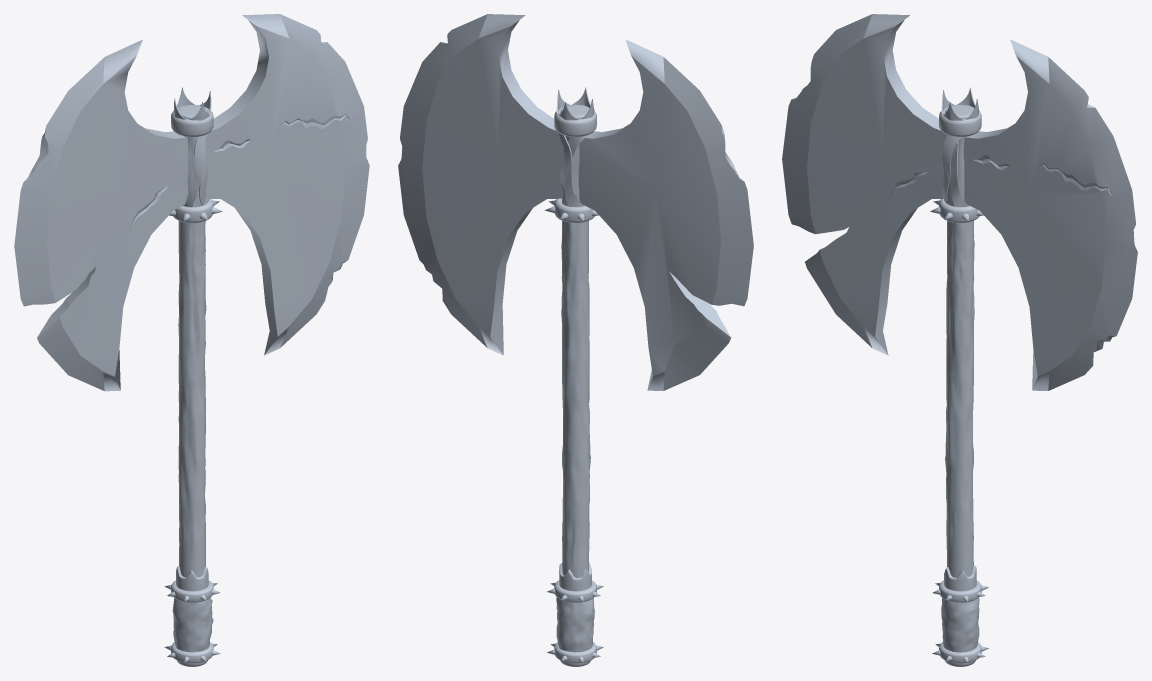
File: doubleAxe.glb
The picture shows the model from 3 angles, left to right: view 1: azimuth 30°, elevation 25°; view 2: azimuth 150°, elevation 25°; view 3: azimuth 330°, elevation 25°; orthographic projection.
Visible parts, largest first — view 1: DoubleAxe2; view 2: DoubleAxe2; view 3: DoubleAxe2.
Part boxes in pixels (<box>): DoubleAxe2: <box>14,14,369,666</box>; DoubleAxe2: <box>398,14,753,666</box>; DoubleAxe2: <box>782,14,1137,666</box>.
Bounding box in the file's own units: 3.89 × 6.64 × 0.6056.
